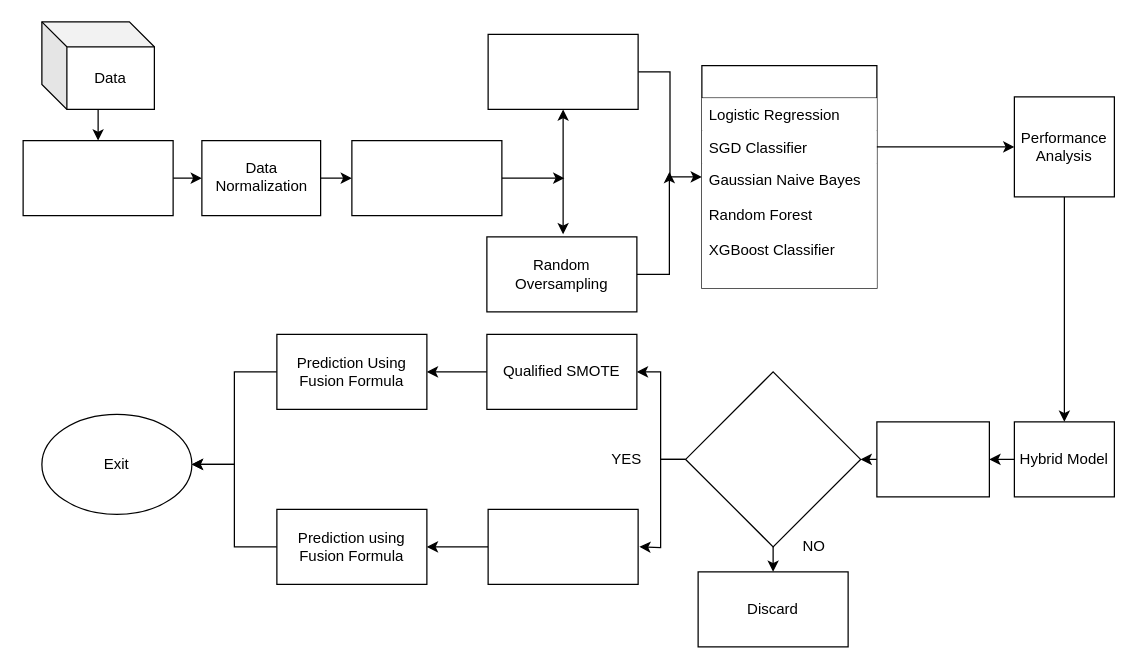
Some shapes in this 1136 by 669 pixel diagram are drawn without their labels. Each missing label, with the box of its shape:
Exploratory Data Analysis: (22, 139, 173, 216)
Handling Dataset Imbalance: (351, 139, 502, 216)
If Accuracy & F1-Score & Precision & Recall &AUC >= 90%: (684, 371, 861, 547)
K-Fold Cross Validation: (701, 64, 877, 288)
Qualified Random: (487, 508, 638, 584)
SMOTE Oversampling: (487, 33, 638, 109)
Training and Testing 80:20: (876, 421, 989, 497)
